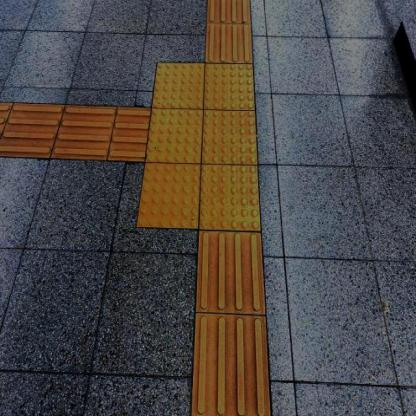podotacti: (124, 32, 284, 270), (191, 229, 274, 415), (1, 97, 146, 162), (204, 0, 252, 62)
